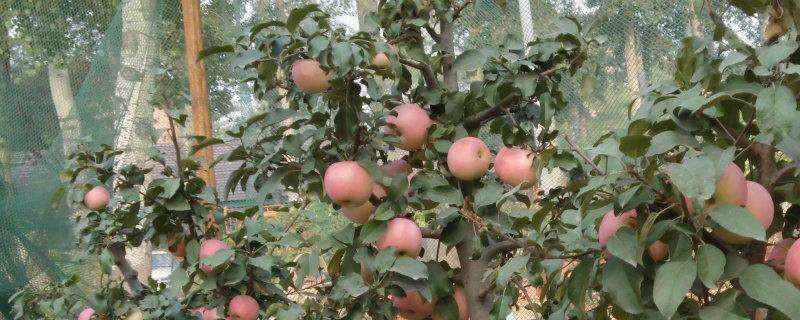apple: (382, 102, 432, 150), (324, 160, 372, 207), (371, 217, 423, 258), (446, 137, 493, 182), (391, 281, 438, 320), (496, 147, 537, 186), (229, 294, 259, 320)
